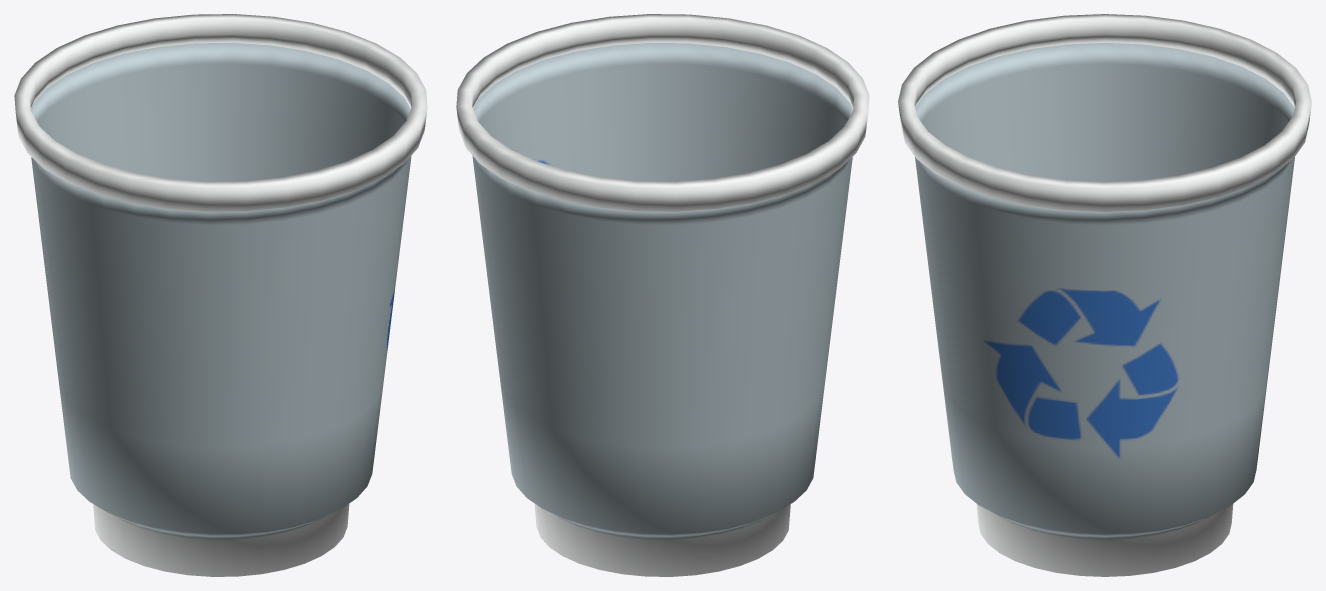
Rendered from urn_gltf.gltf.
The picture shows the model from 3 angles, left to right: view 1: azimuth 30°, elevation 25°; view 2: azimuth 150°, elevation 25°; view 3: azimuth 270°, elevation 25°; orthographic projection.
Visible parts, largest first — view 1: urna_Circle; view 2: urna_Circle; view 3: urna_Circle.
Boxes of the visible parts, x1,y1,x2,y2 form: urna_Circle: [14, 14, 427, 576]; urna_Circle: [456, 14, 869, 576]; urna_Circle: [898, 14, 1311, 576].
Size of the model in its own units: 3.26 by 3.68 by 3.26.
1 material, 1 textured.
